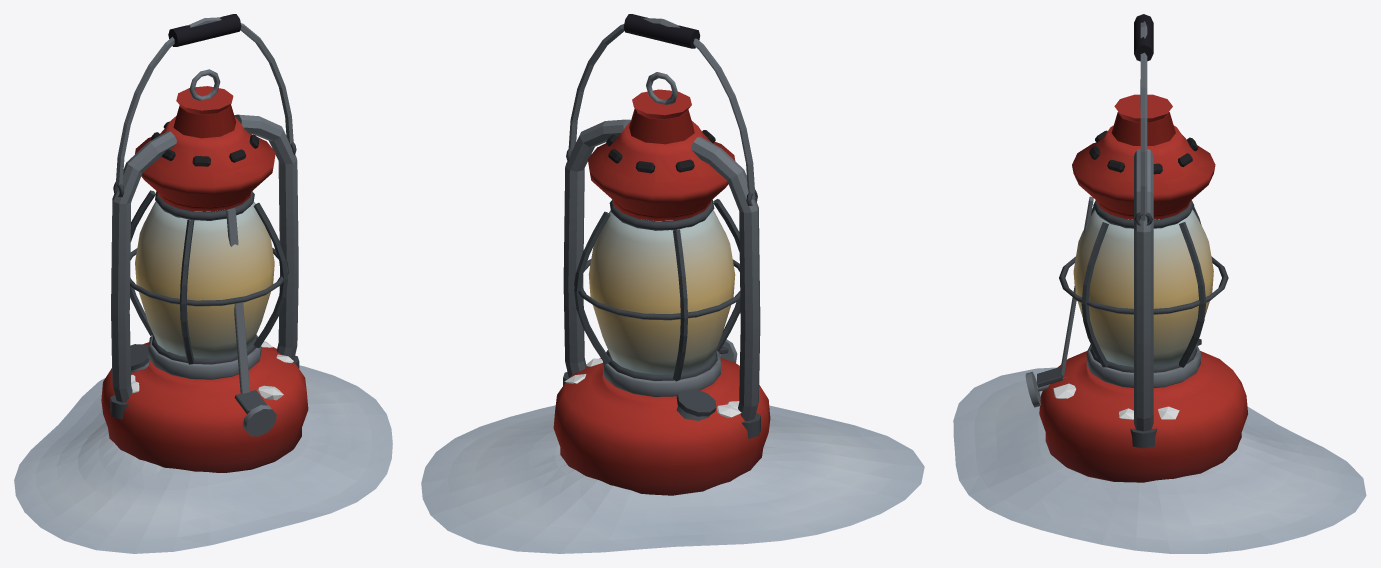
File: lantern.glb
3 renders of one model, left to right at view 1: azimuth 30°, elevation 25°; view 2: azimuth 150°, elevation 25°; view 3: azimuth 270°, elevation 25°, orthographic. The views are drawn at different scales.
Visible parts, largest first — view 1: arctic_storm_lantern; view 2: arctic_storm_lantern; view 3: arctic_storm_lantern.
Boxes of the visible parts, x1,y1,x2,y2 form: arctic_storm_lantern: (14,14,392,553); arctic_storm_lantern: (421,14,924,553); arctic_storm_lantern: (953,14,1366,553).
Bounding box in the file's own units: 0.5437 × 0.5913 × 0.5062.
